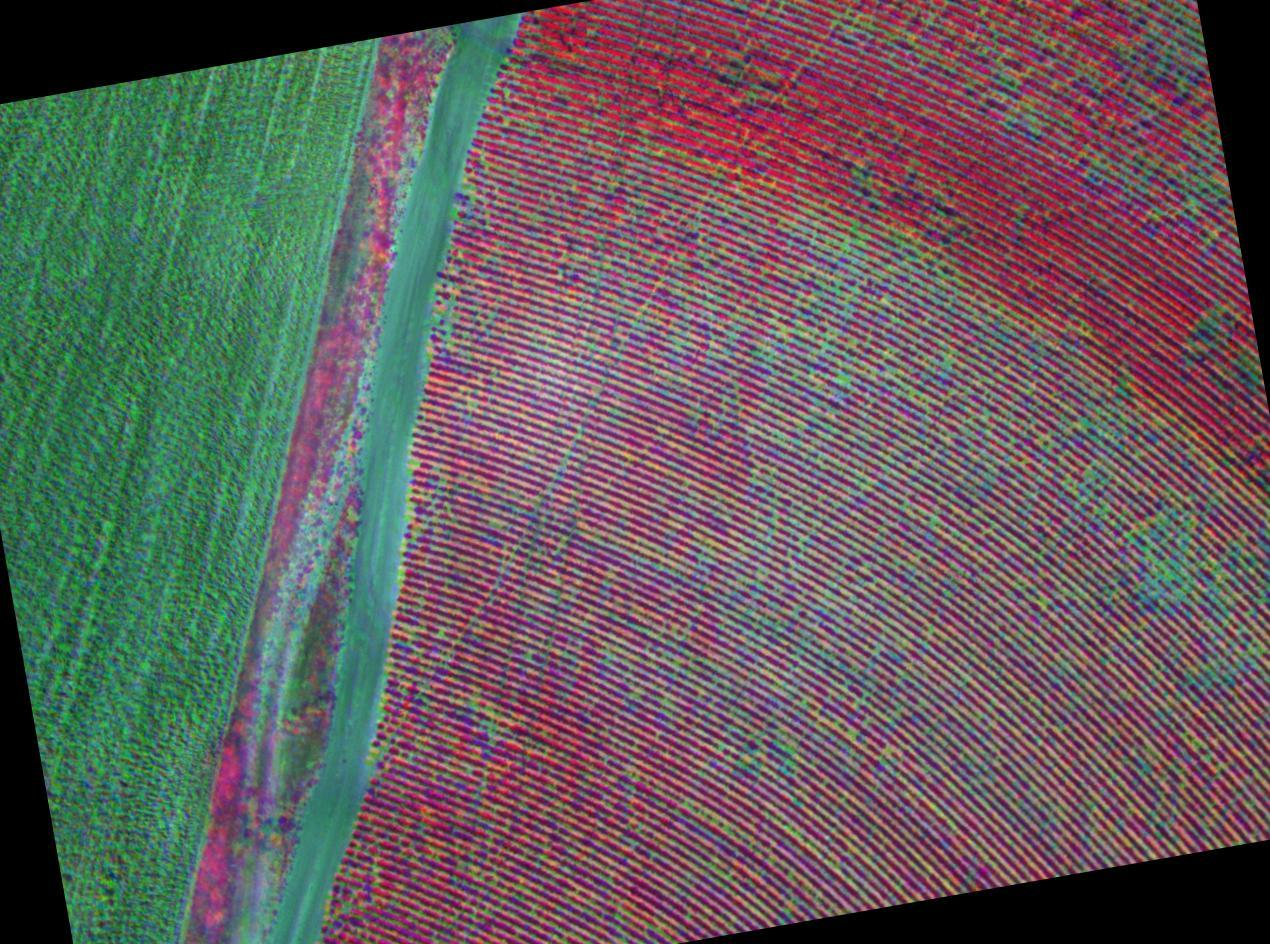dc: (885, 296, 890, 301), (842, 244, 846, 249), (782, 326, 786, 330), (840, 376, 843, 381), (802, 701, 805, 704)
